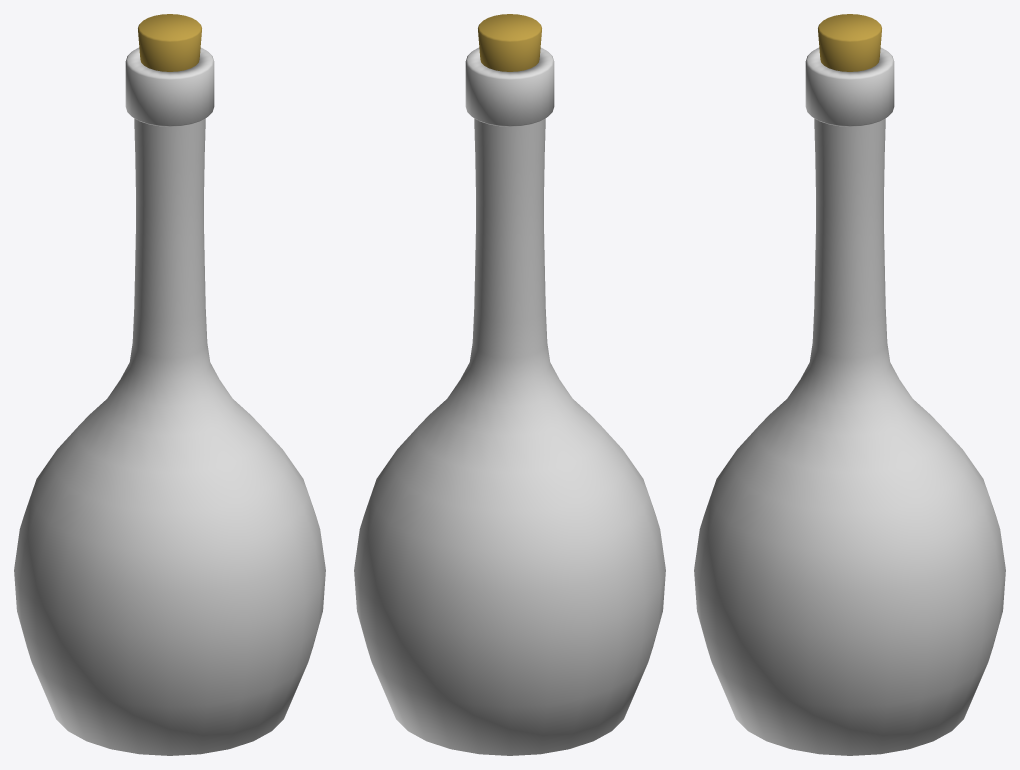
The model's file is PotionThin.fbx.
The picture shows the model from 3 angles, left to right: view 1: azimuth 30°, elevation 25°; view 2: azimuth 150°, elevation 25°; view 3: azimuth 270°, elevation 25°; orthographic projection.
Parts seen in each view (by area): view 1: PotionThin.002; view 2: PotionThin.002; view 3: PotionThin.002.
Boxes of the visible parts, box(x1,y1,x2,y2) form: PotionThin.002: box(14, 14, 325, 755); PotionThin.002: box(354, 14, 665, 755); PotionThin.002: box(694, 14, 1005, 755).
Size of the model in its own units: 83.07 by 200 by 83.07.
